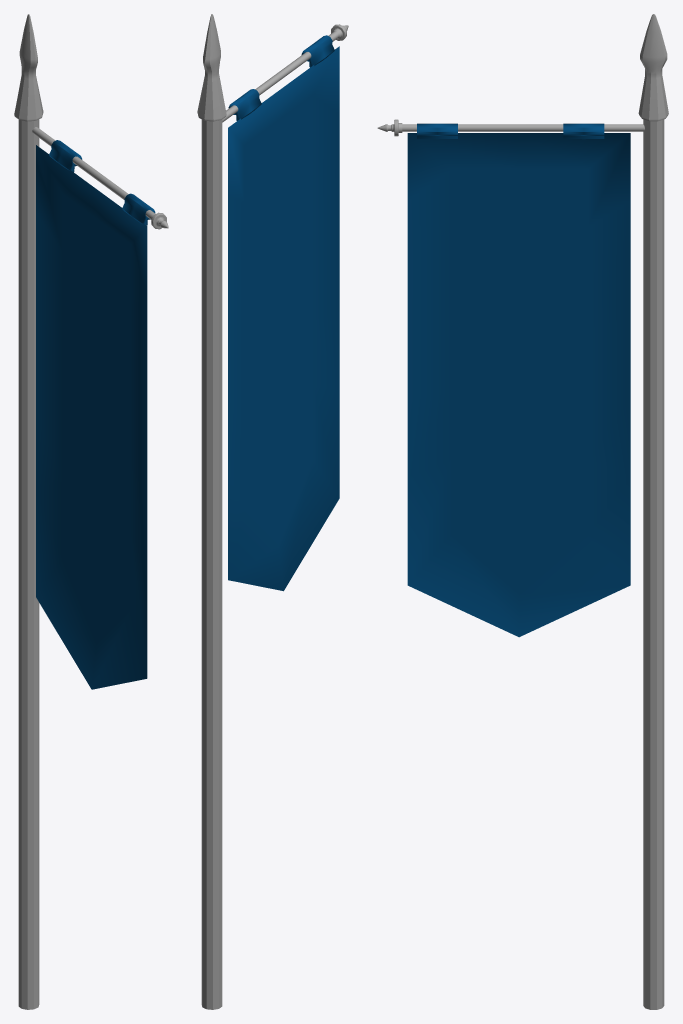
Rendered from Flag.fbx.
3 views of the same model, side by side, from view 1: azimuth 30°, elevation 25°; view 2: azimuth 150°, elevation 25°; view 3: azimuth 270°, elevation 25° (orthographic).
Parts seen in each view (by area): view 1: FLag; view 2: FLag; view 3: FLag.
Boxes of the visible parts, x1,y1,x2,y2 form: FLag: (14, 14, 168, 1009); FLag: (197, 14, 348, 1009); FLag: (377, 14, 668, 1009).
Bounding box in the file's own units: 0.2562 × 9.83 × 2.62.
